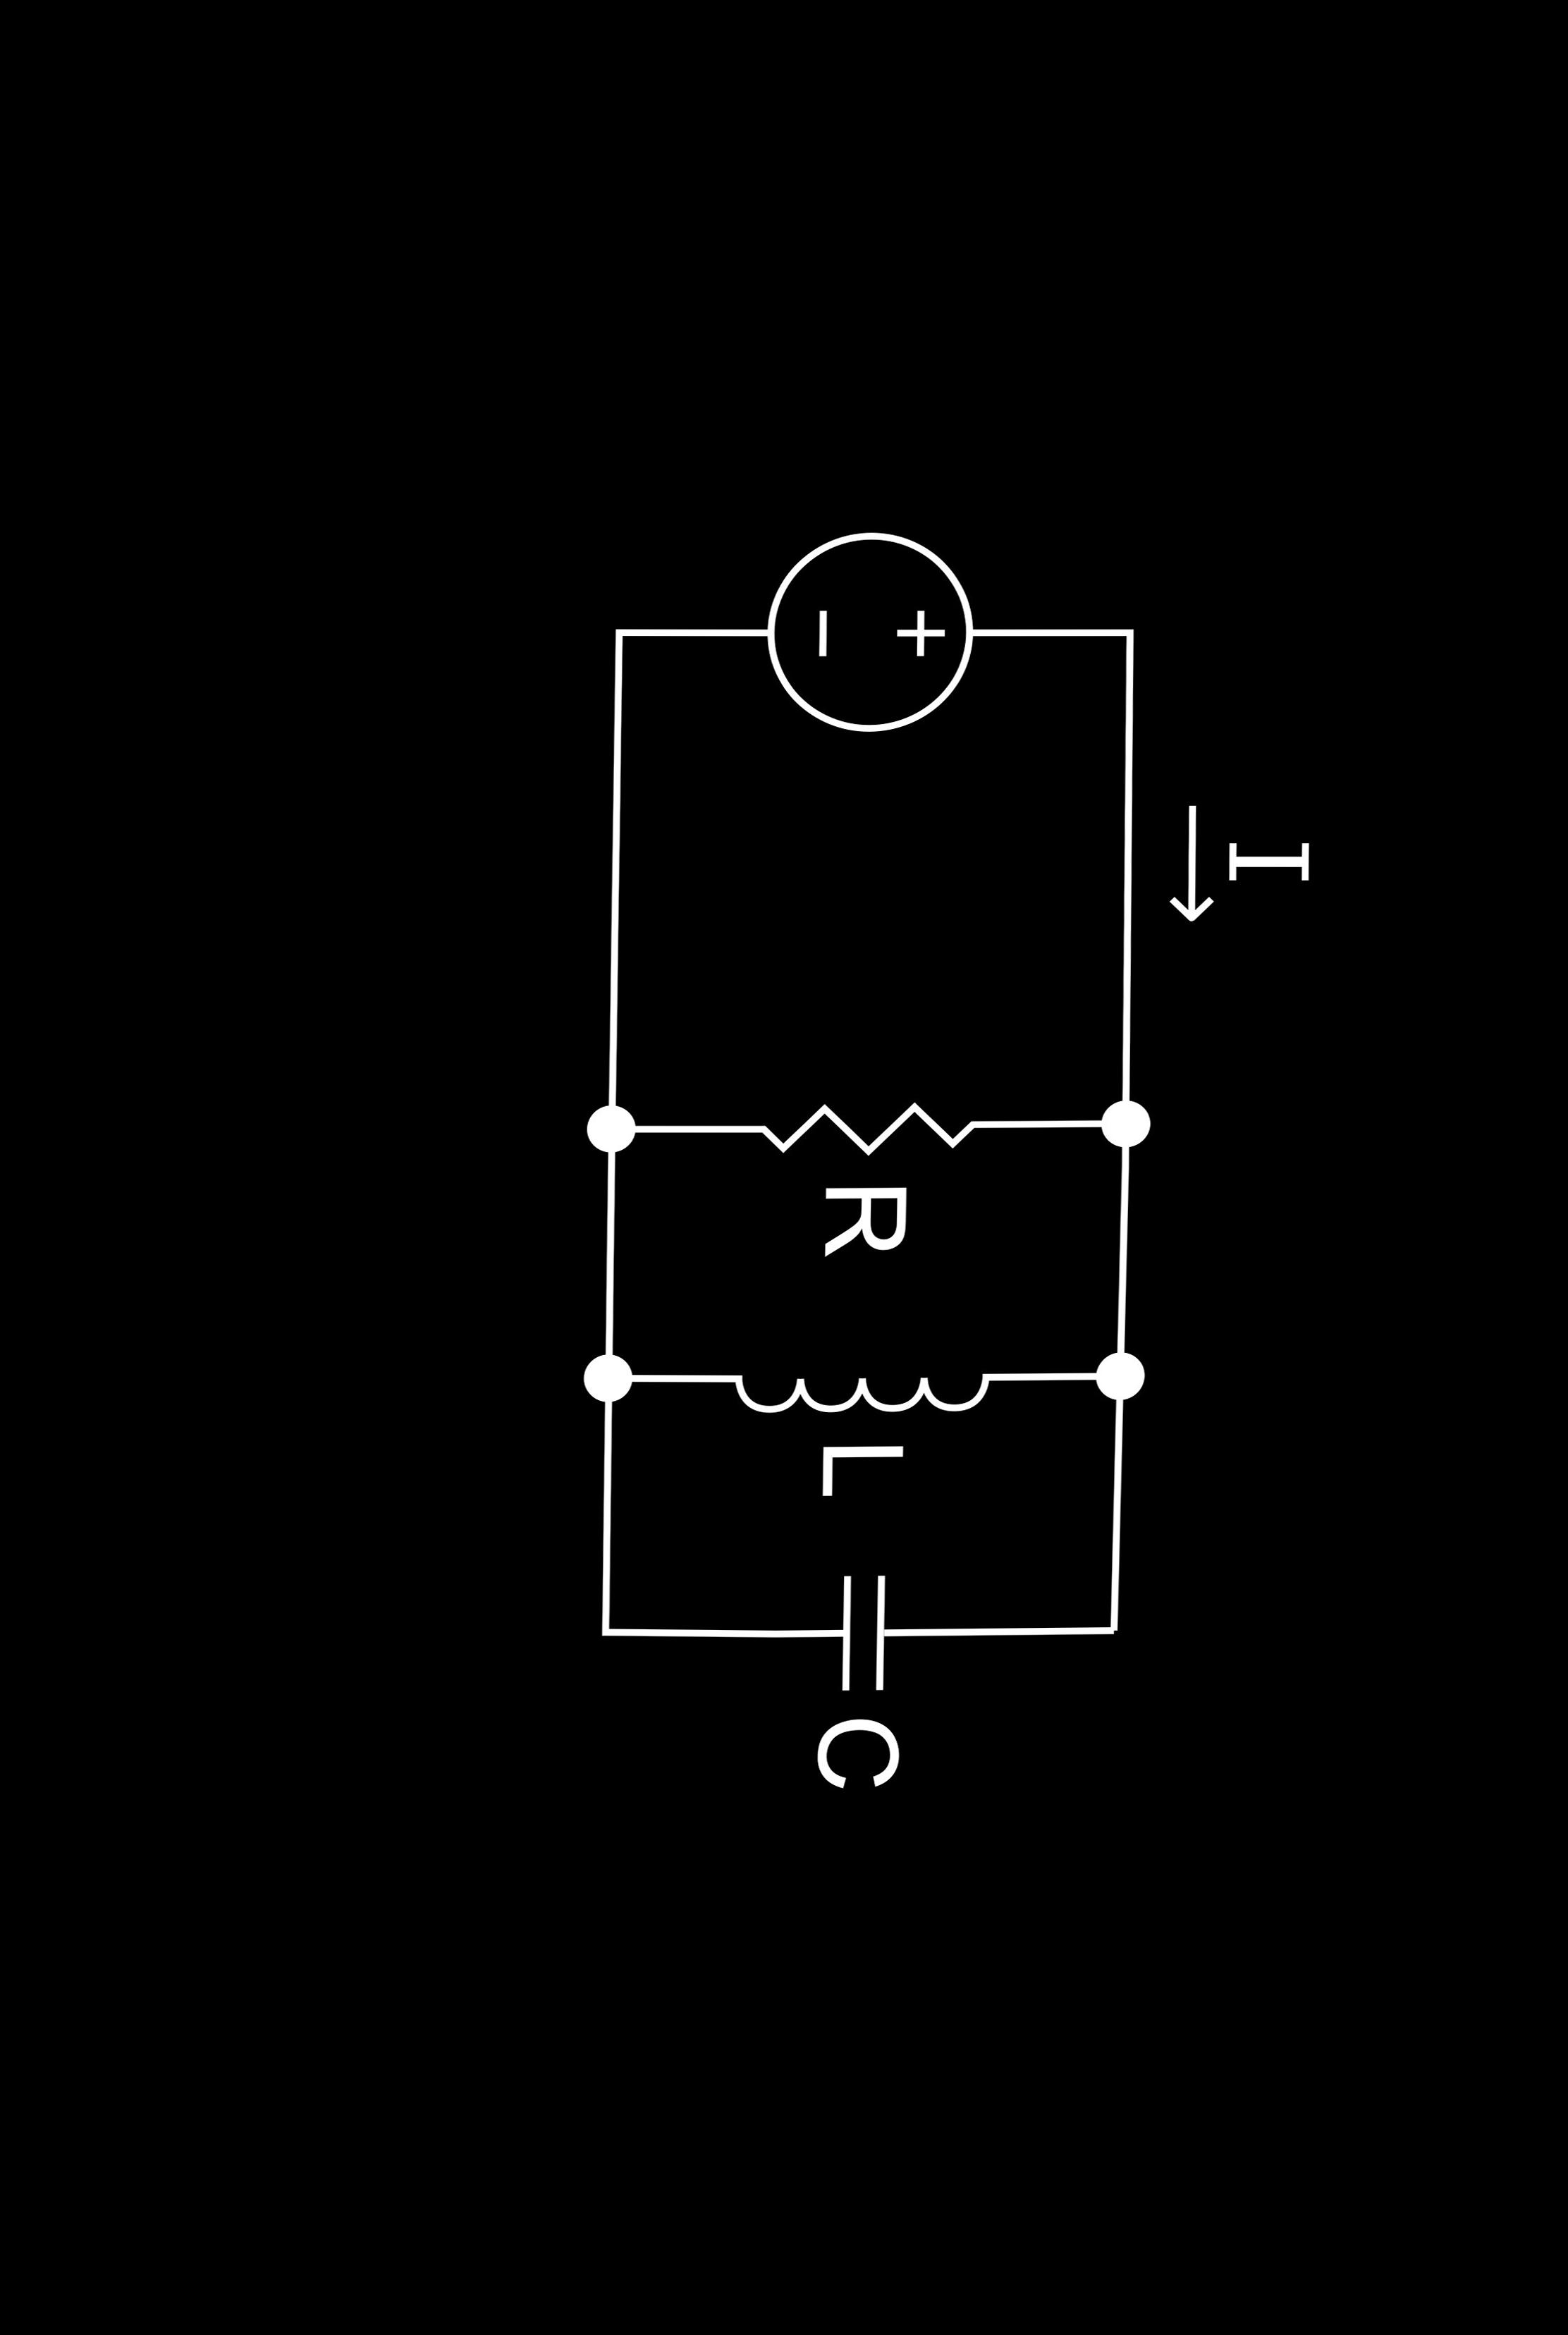Battery: (689, 457, 1004, 812)
